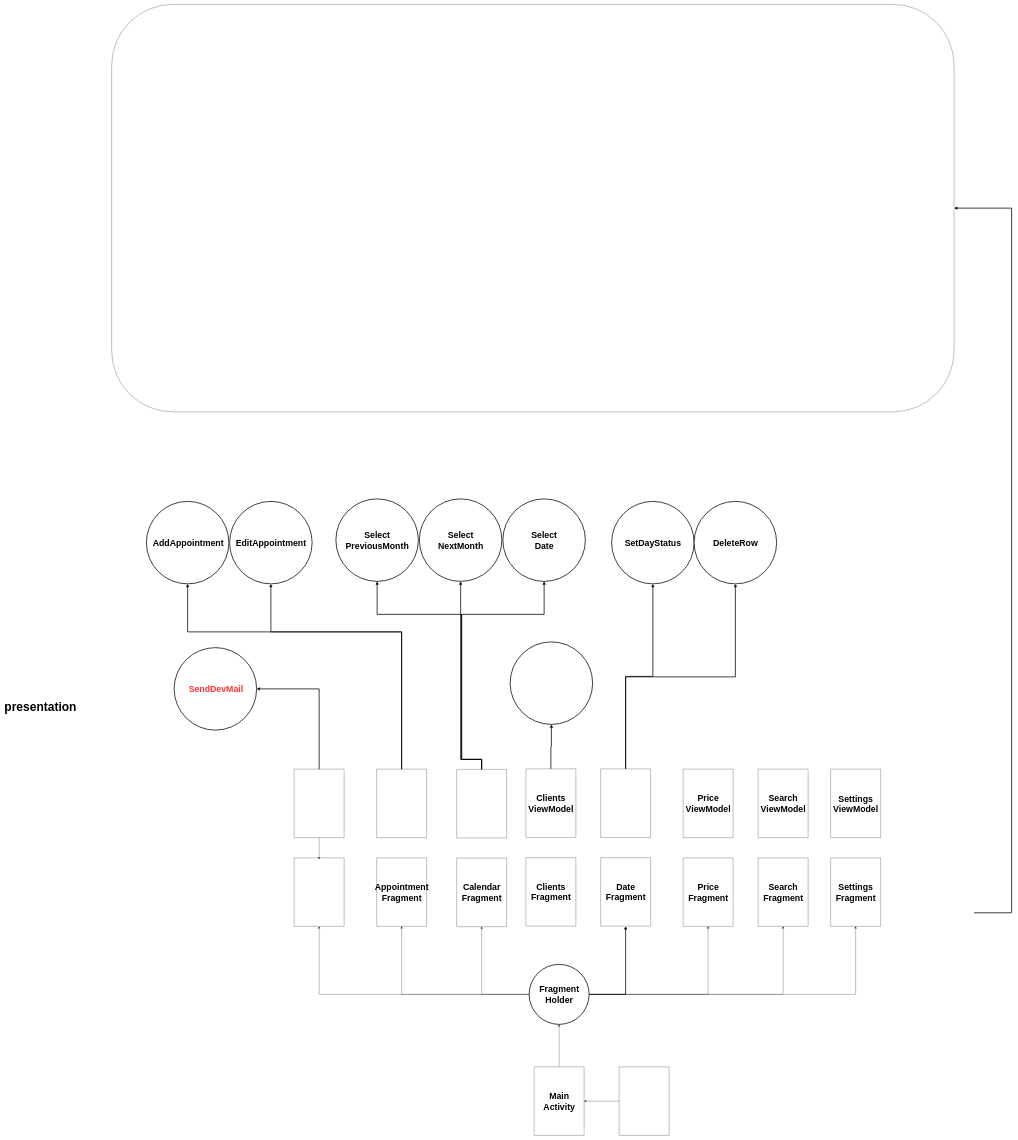
This 1018x1140 diagram has some shape labels left out. Each missing label, with the centre of its shape:
"About Fragment" goes at [319,892].
"About ViewModel" goes at [319,803].
"Appointment ViewModel" goes at [401,803].
"Calendar ViewModel" goes at [481,803].
"Date ViewModel" goes at [625,803].
"domain" goes at [532,208].
"Main Activity ViewModel" goes at [644,1101].
"not yet implemented" goes at [551,683].
